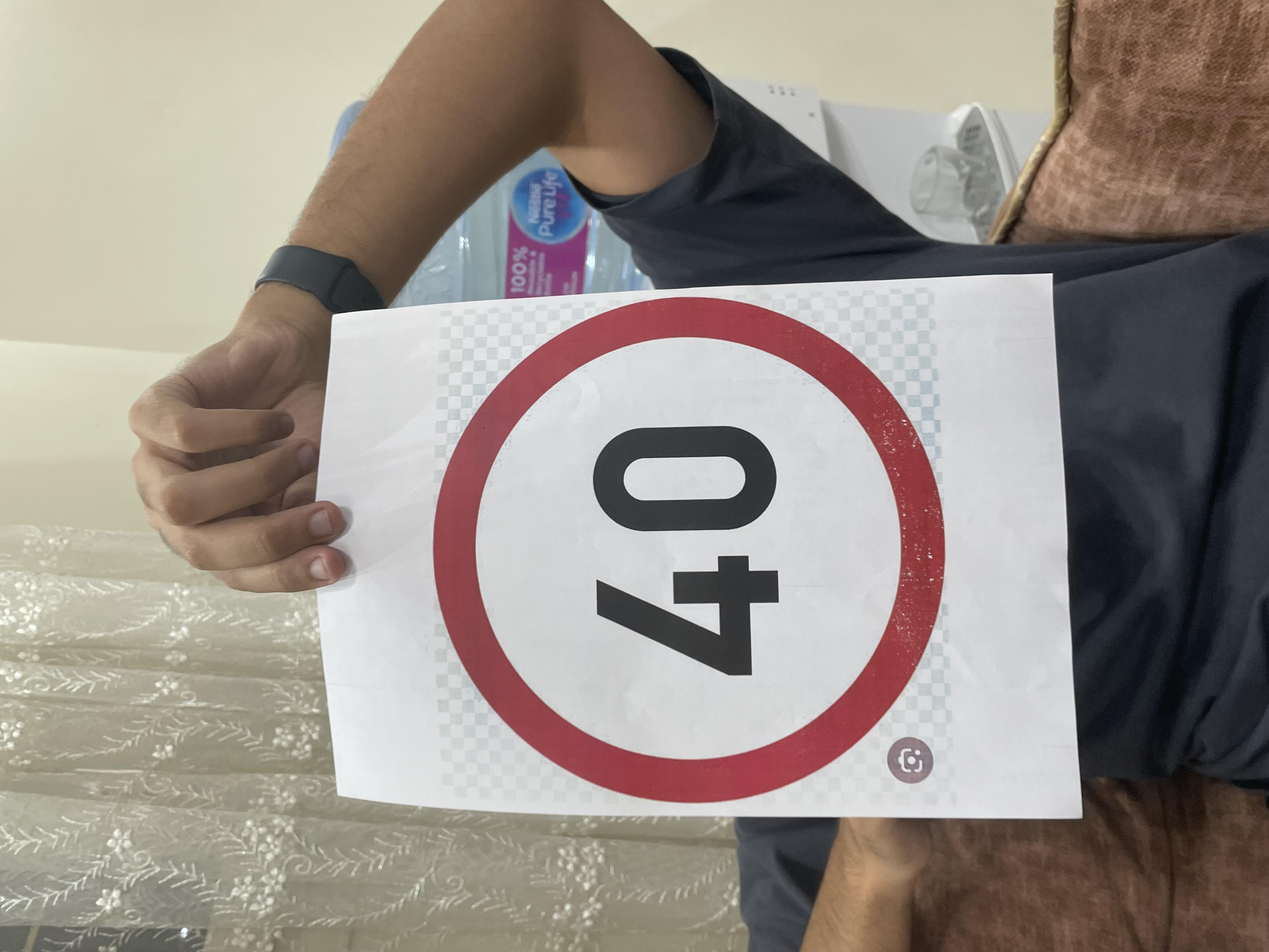40-Speed: (177, 324, 885, 704)
